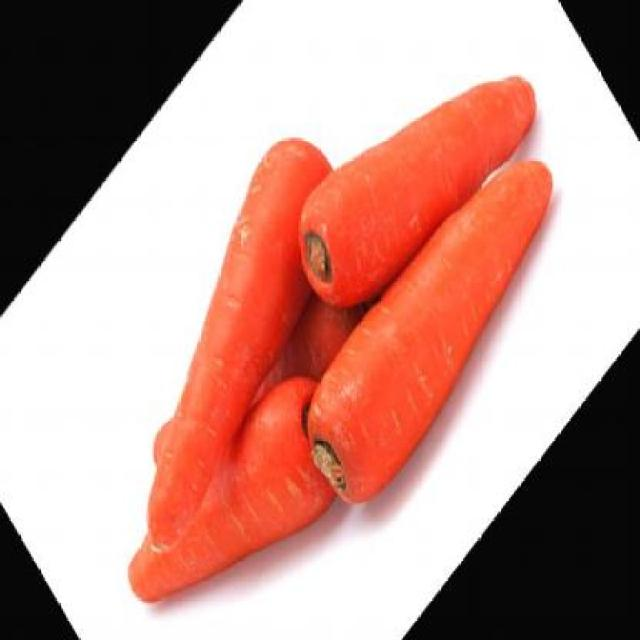carrot: (70, 105, 390, 562), (285, 113, 584, 530), (279, 0, 546, 360), (119, 340, 364, 638), (239, 234, 390, 448)
